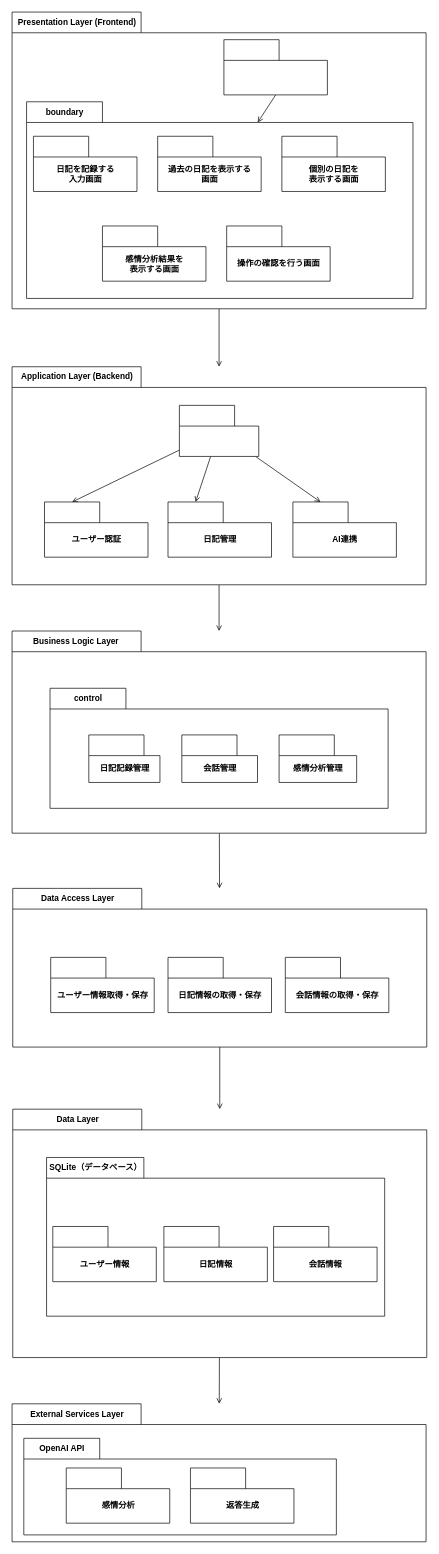
The diagram is 439 pixels wide and 1554 high, and some of its shapes have lost their labels. Here are the shapes that lost their labels. From the top down, the centre of each, then its label:
At point (275, 67): "HTML/CSS/JS".
At point (219, 430): "Flask".
